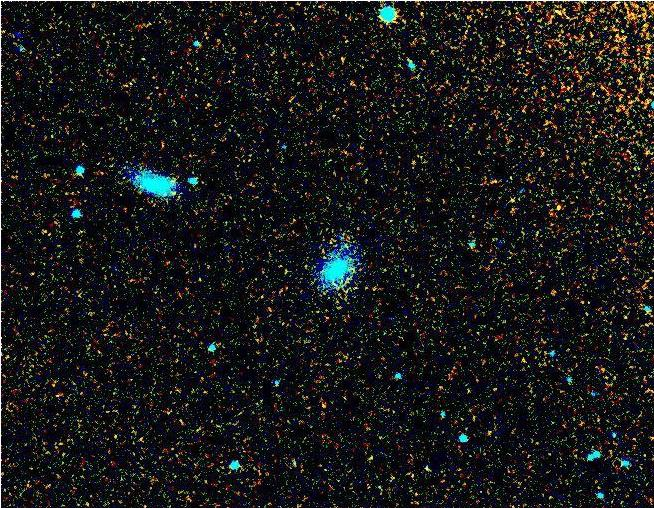star: (496, 184, 526, 214)
